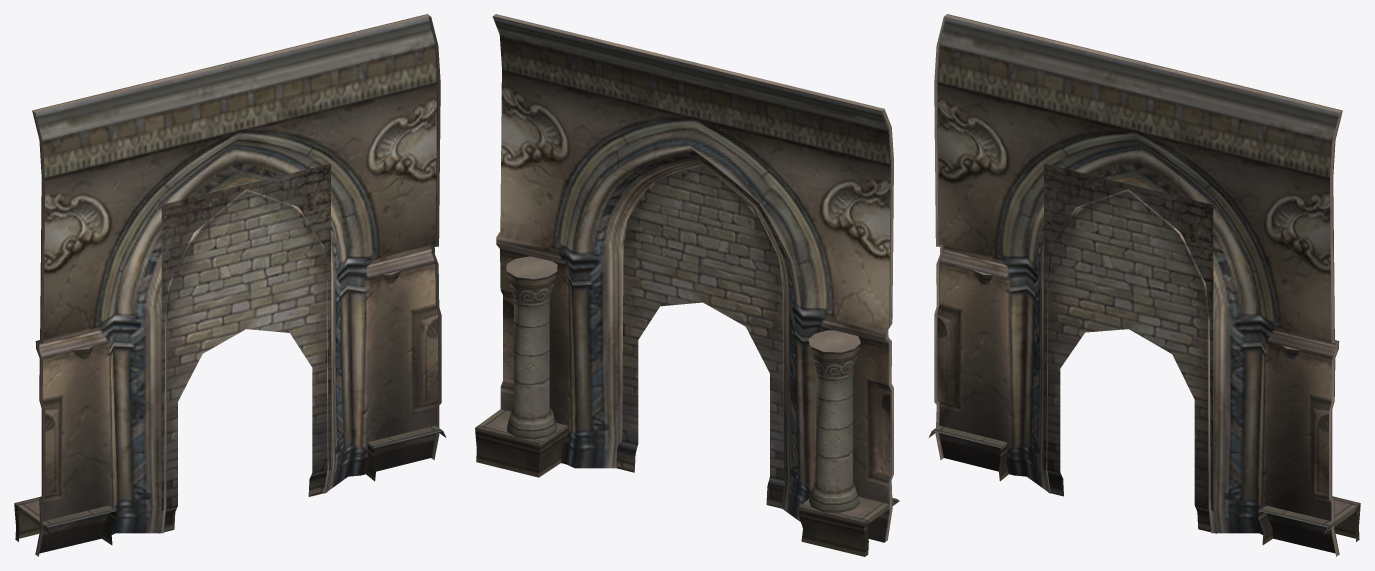
The picture shows the model from 3 angles, left to right: view 1: azimuth 30°, elevation 25°; view 2: azimuth 150°, elevation 25°; view 3: azimuth 330°, elevation 25°; orthographic projection.
Visible parts, largest first — view 1: DN_1_4_dt02a_a; view 2: DN_1_4_dt02a_a; view 3: DN_1_4_dt02a_a.
Part boxes in pixels (left/top/right/bottom): DN_1_4_dt02a_a: left=14, top=14, right=446, bottom=556; DN_1_4_dt02a_a: left=475, top=14, right=899, bottom=556; DN_1_4_dt02a_a: left=928, top=14, right=1360, bottom=556.
Size of the model in its own units: 1989 by 2122 by 322.
